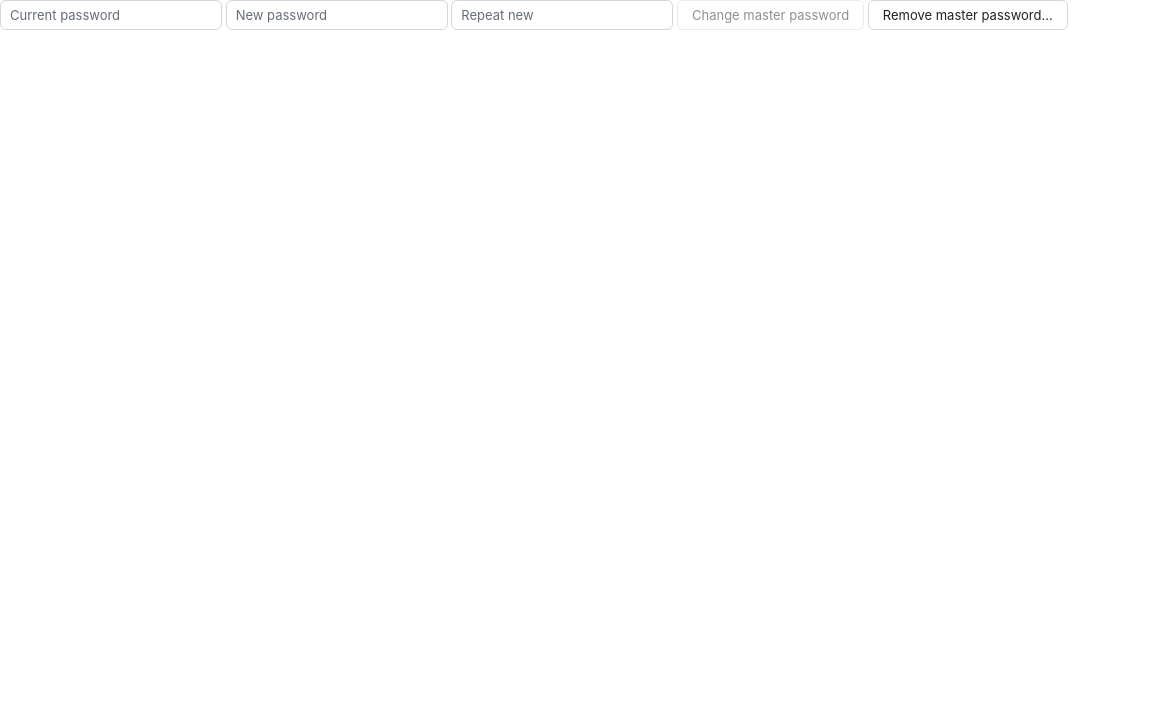
Test: master password settings › keeps the dialog open and says why when the password is wrong
Step 1. Click the button "Remove master password…" → (968, 15), box [868, 0, 1068, 30]
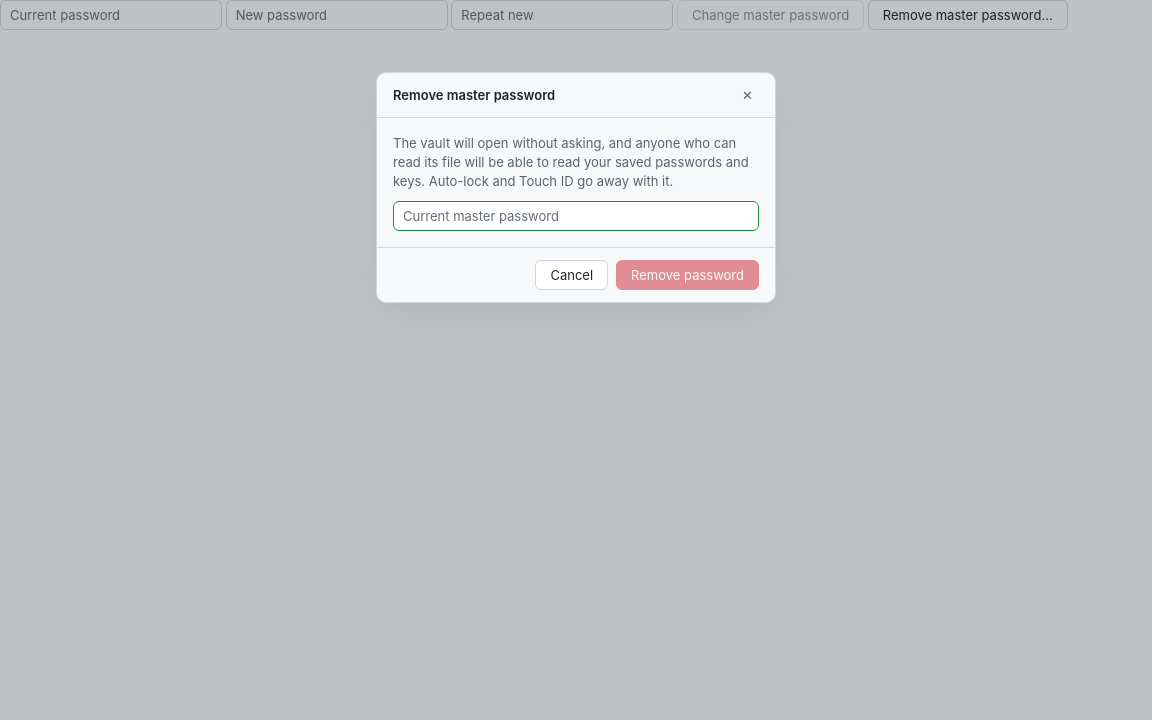
Step 2. Type "nope" into the password field with placeholder "Current master password" → (576, 216), box [393, 200, 759, 230]
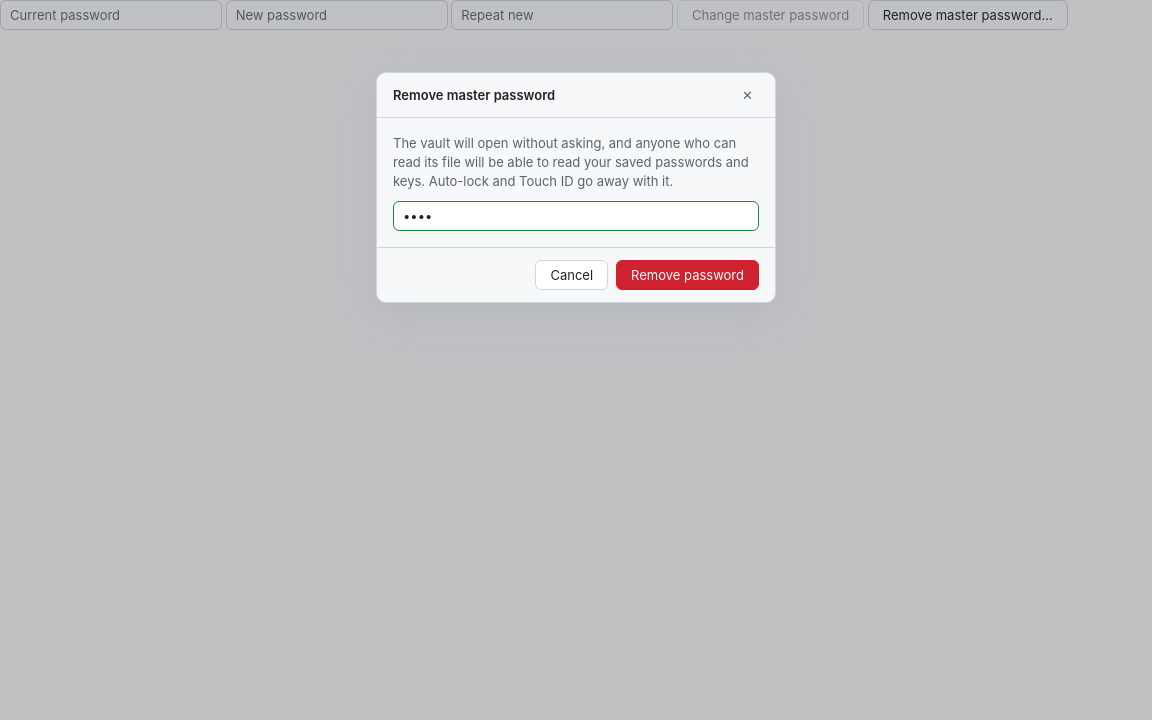
Step 3. Click the button "Remove password" → (688, 274), box [616, 260, 759, 290]
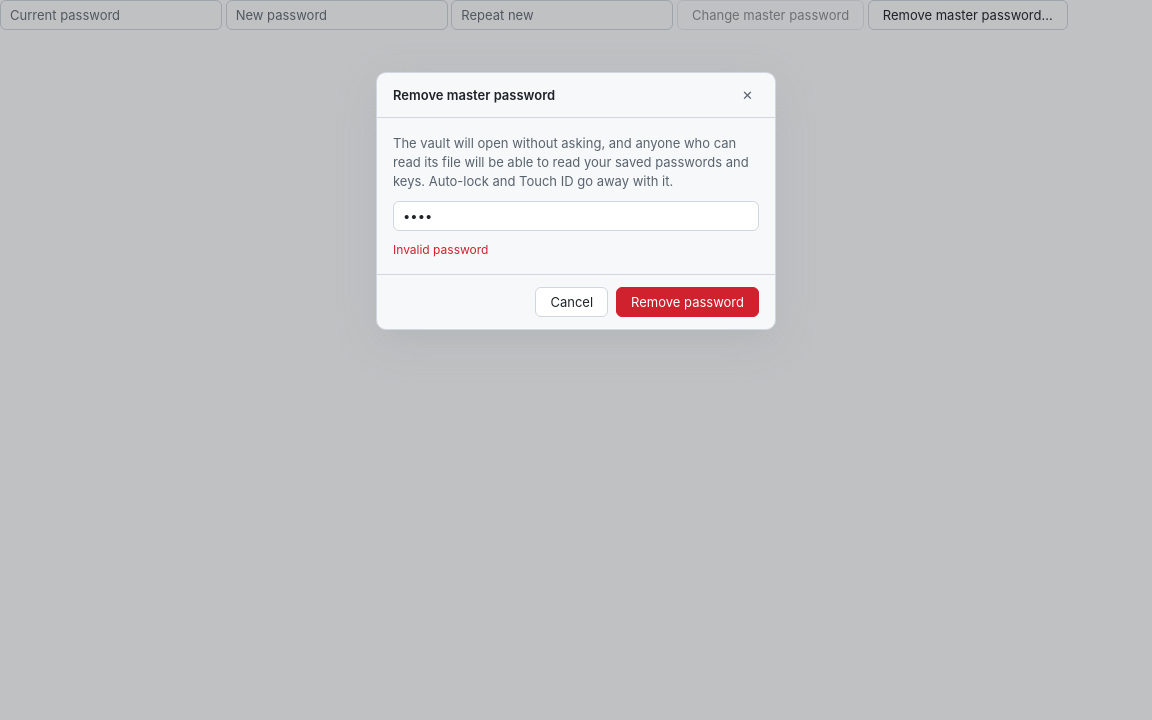
Now the dialog is shown, box [376, 72, 776, 330]
Now the message reads "Invalid password", box [393, 242, 488, 256]
